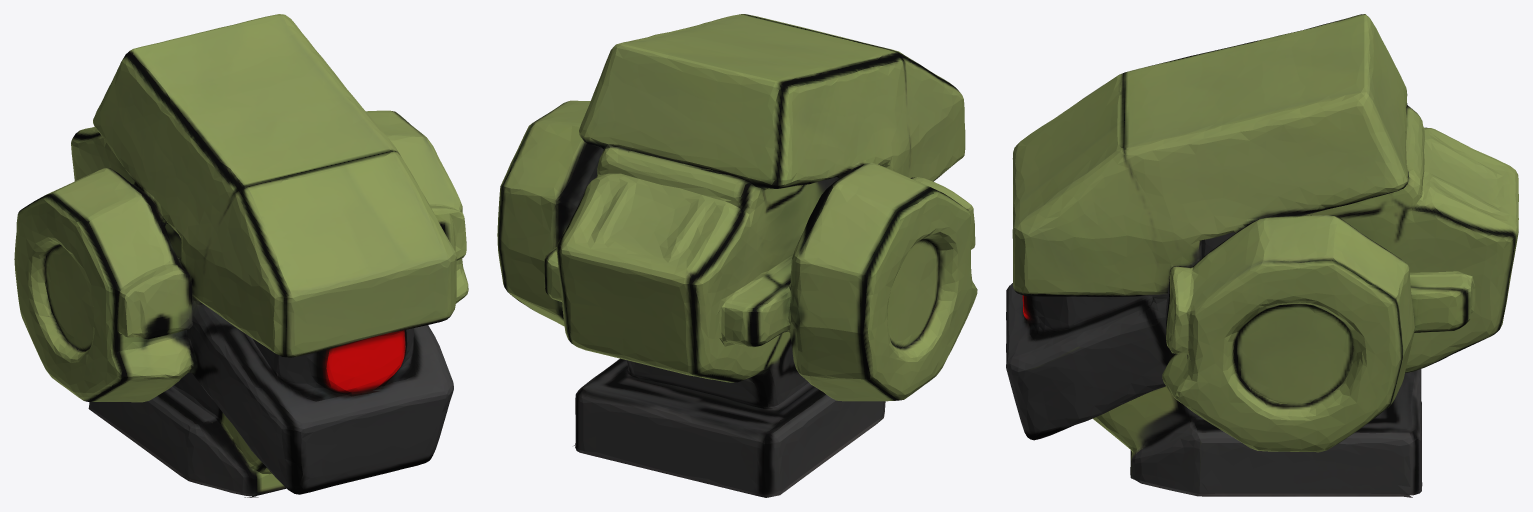
File: medium_mech_head.glb
3 views of the same model, side by side, from view 1: azimuth 30°, elevation 25°; view 2: azimuth 150°, elevation 25°; view 3: azimuth 270°, elevation 25° (orthographic). The views are drawn at different scales.
Parts seen in each view (by area): view 1: md_head, md_head_frame; view 2: md_head, md_head_frame; view 3: md_head, md_head_frame.
Part boxes in pixels (x1,y1,x2,y2): md_head: (14, 14, 468, 496); md_head_frame: (115, 49, 453, 497); md_head: (497, 14, 977, 497); md_head_frame: (550, 73, 916, 497); md_head: (1006, 15, 1518, 497); md_head_frame: (1006, 14, 1420, 495).
Size of the model in its own units: 1.49 by 1.48 by 1.74.
Materials: 3 (2 with a texture image).
